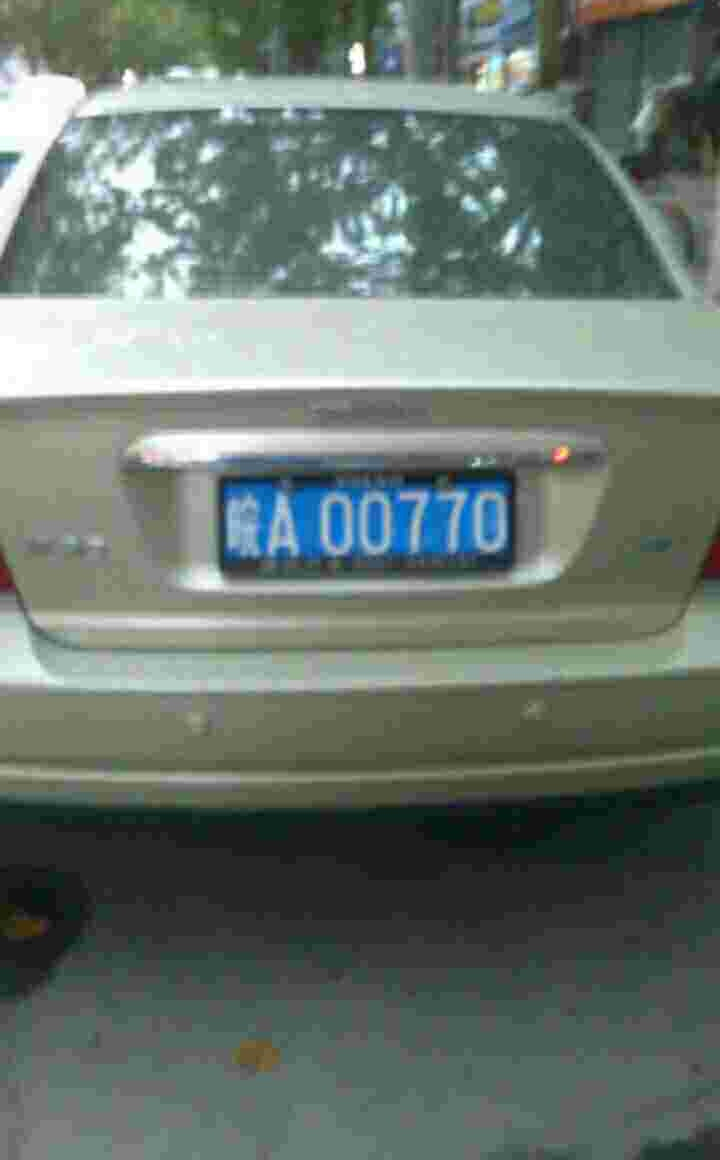license_plate: (233, 485, 513, 568)
